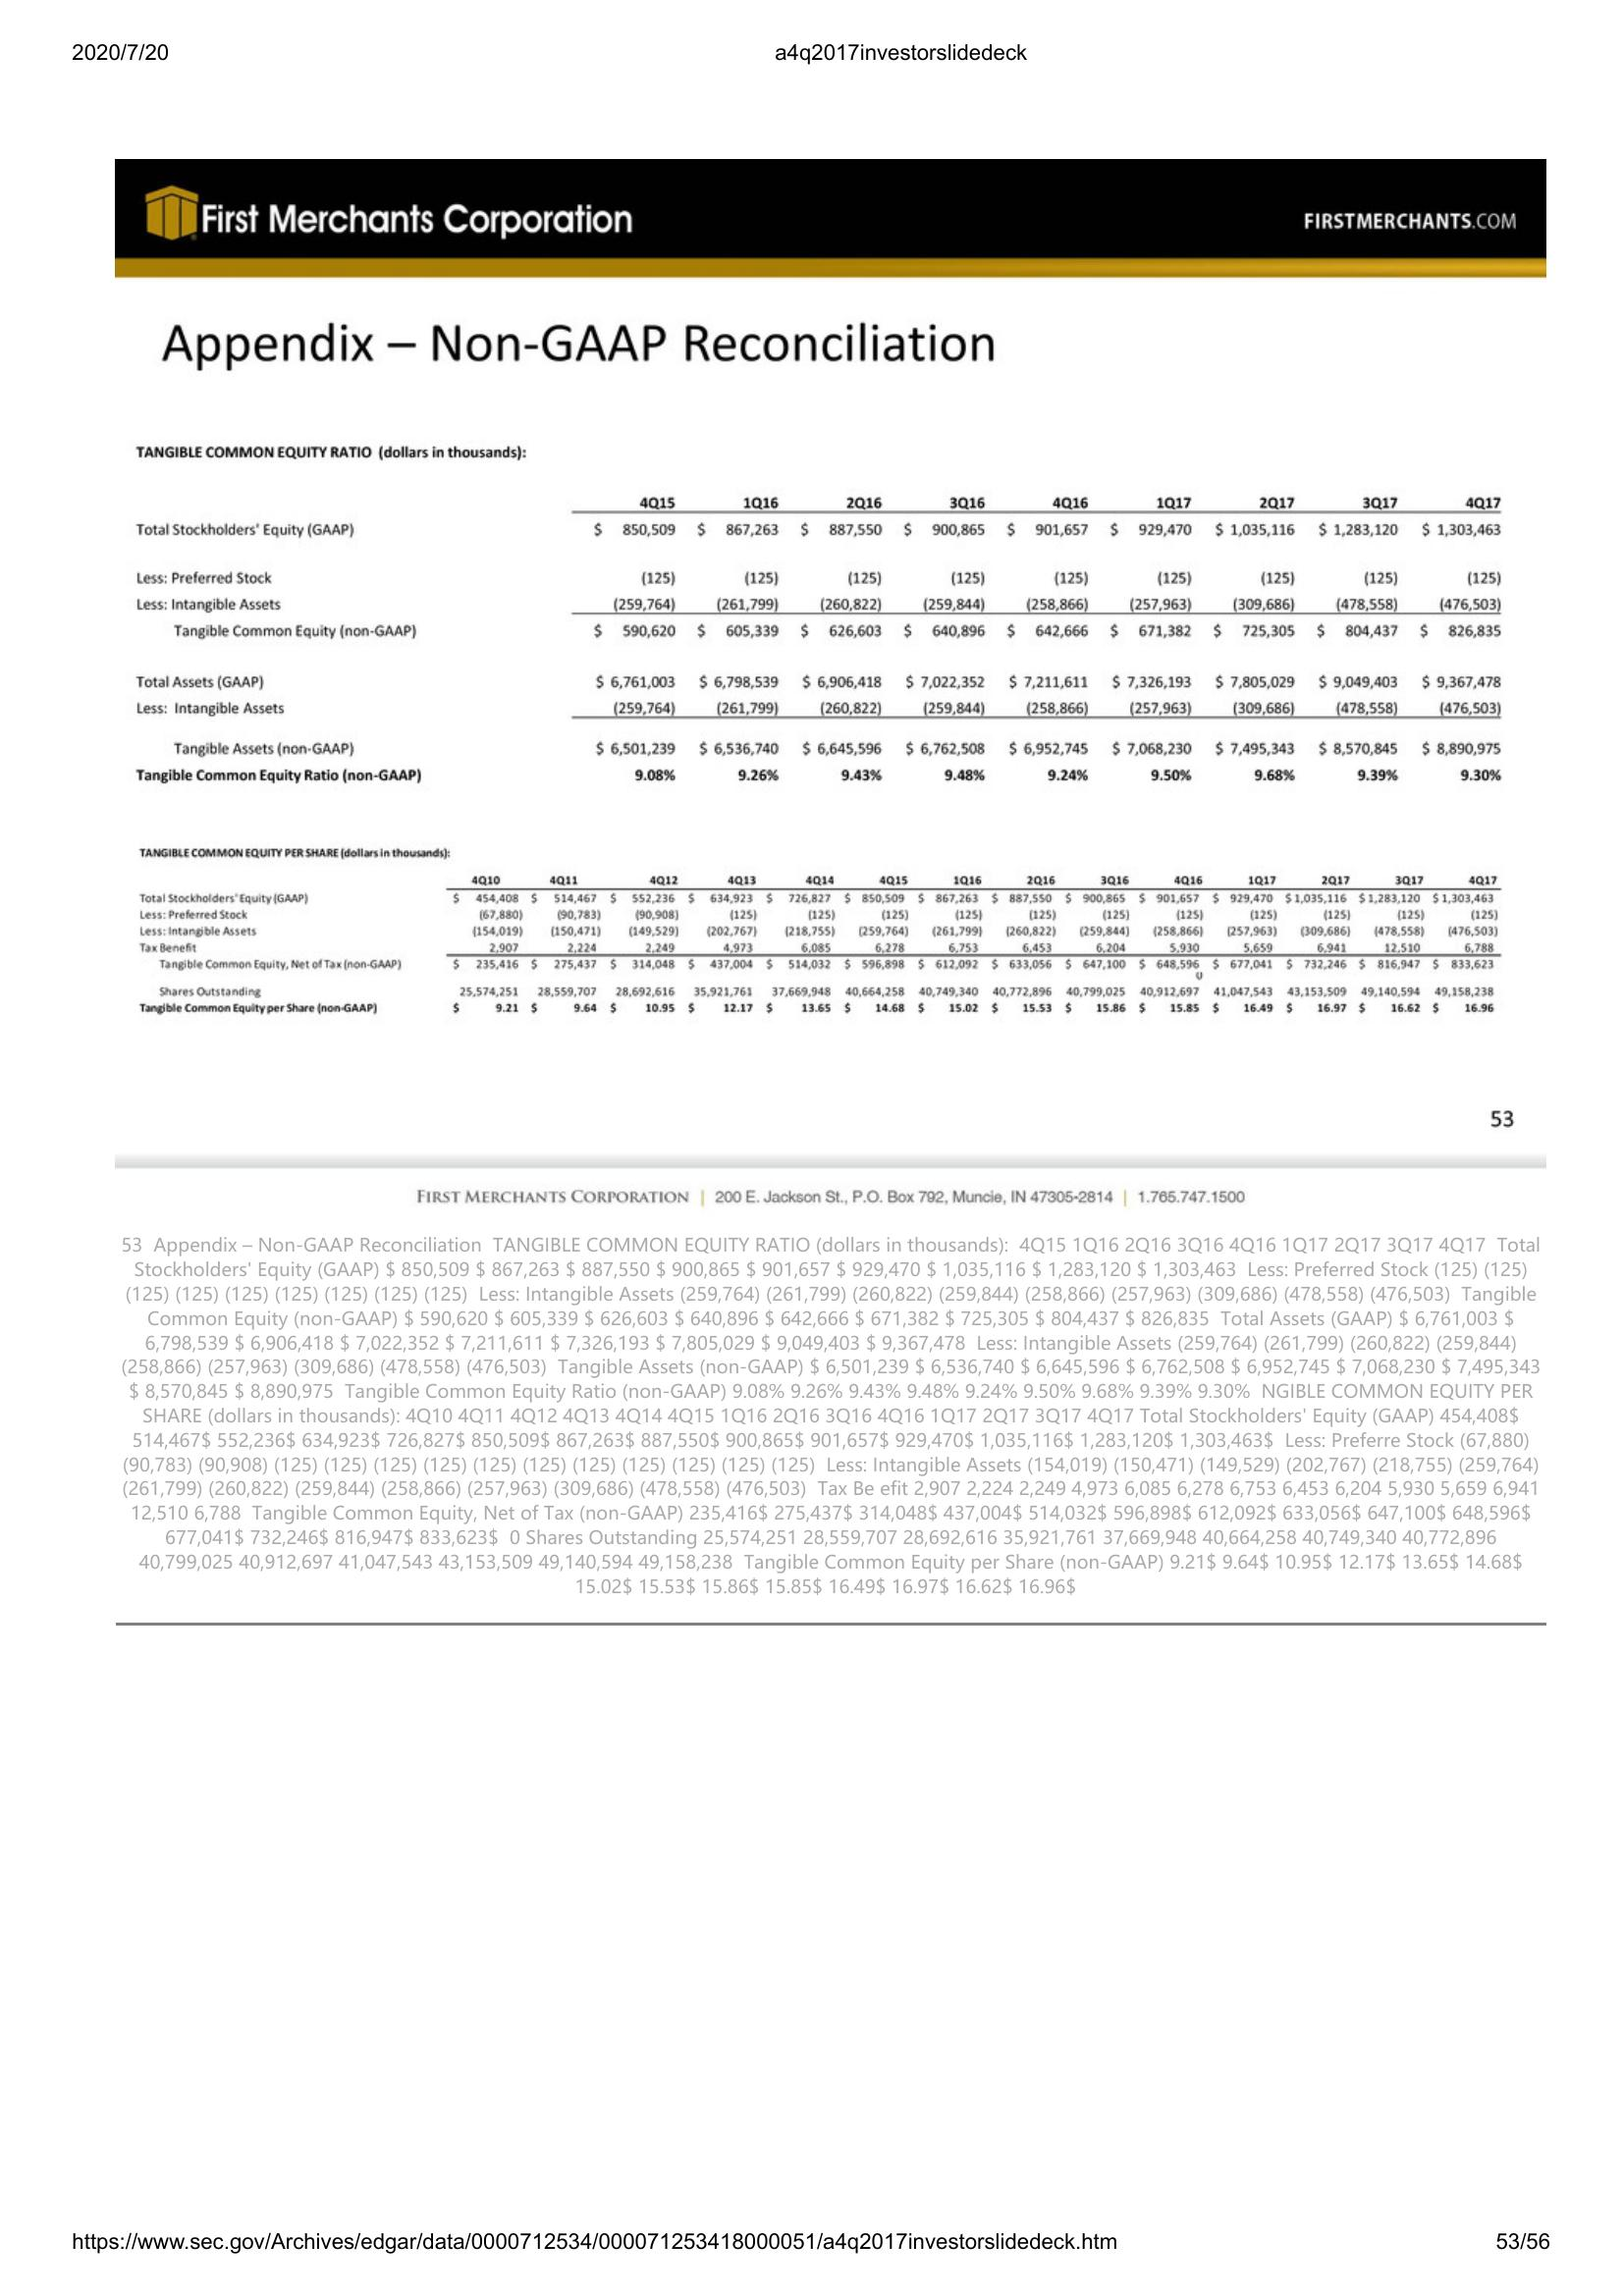table: (128, 442, 1516, 1022)
